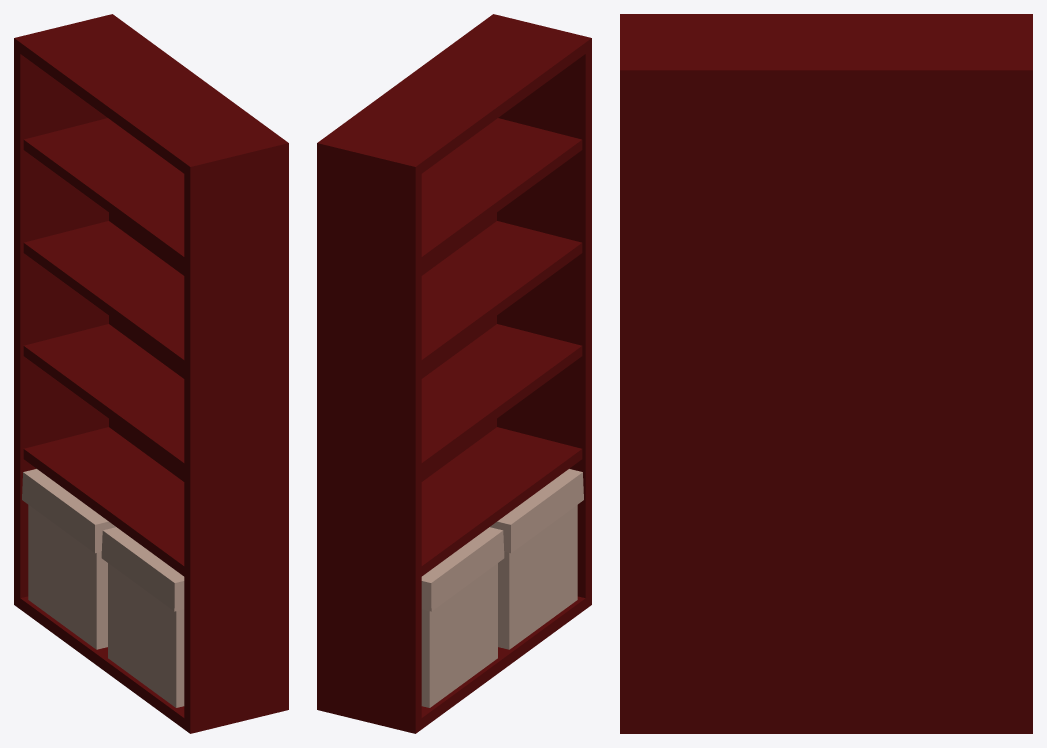
The model's file is furniture_decor_210010.glb.
3 renders of one model, left to right at view 1: azimuth 30°, elevation 25°; view 2: azimuth 150°, elevation 25°; view 3: azimuth 270°, elevation 25°, orthographic. The views are drawn at different scales.
Visible parts, largest first — view 1: furniture_decor_210010; view 2: furniture_decor_210010; view 3: furniture_decor_210010.
Boxes of the visible parts, x1,y1,x2,y2 form: furniture_decor_210010: (14,14,288,733); furniture_decor_210010: (317,14,591,733); furniture_decor_210010: (620,14,1032,733).
Bounding box in the file's own units: 0.3124 × 1.65 × 0.93.
1 material, 1 textured.
